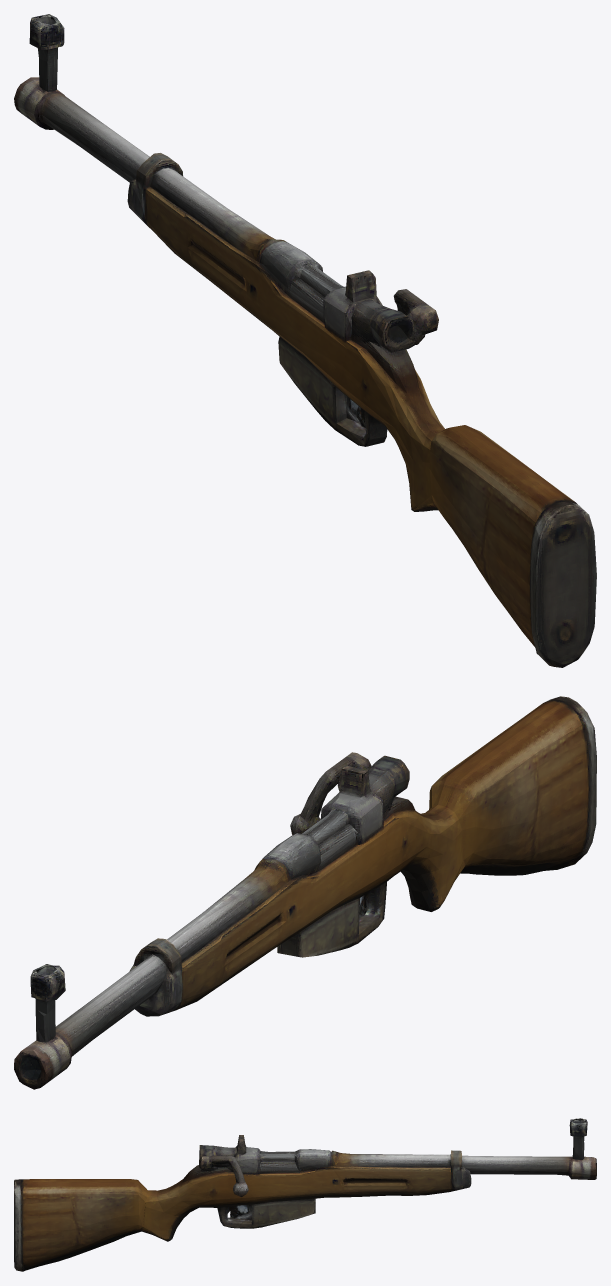
The model's file is rent_rifle.glb.
3 renders of one model, top to bottom at view 1: azimuth 30°, elevation 25°; view 2: azimuth 150°, elevation 25°; view 3: azimuth 270°, elevation 25°, orthographic. The views are drawn at different scales.
Visible parts, largest first — view 1: world; view 2: world; view 3: world.
Part boxes in pixels (x1=…): world: x1=14, y1=14, x2=596, y2=667; world: x1=14, y1=696, x2=596, y2=1089; world: x1=14, y1=1118, x2=596, y2=1271.
Size of the model in its own units: 0.1036 by 0.2829 by 0.9994.
Materials: 1 (1 with a texture image).
